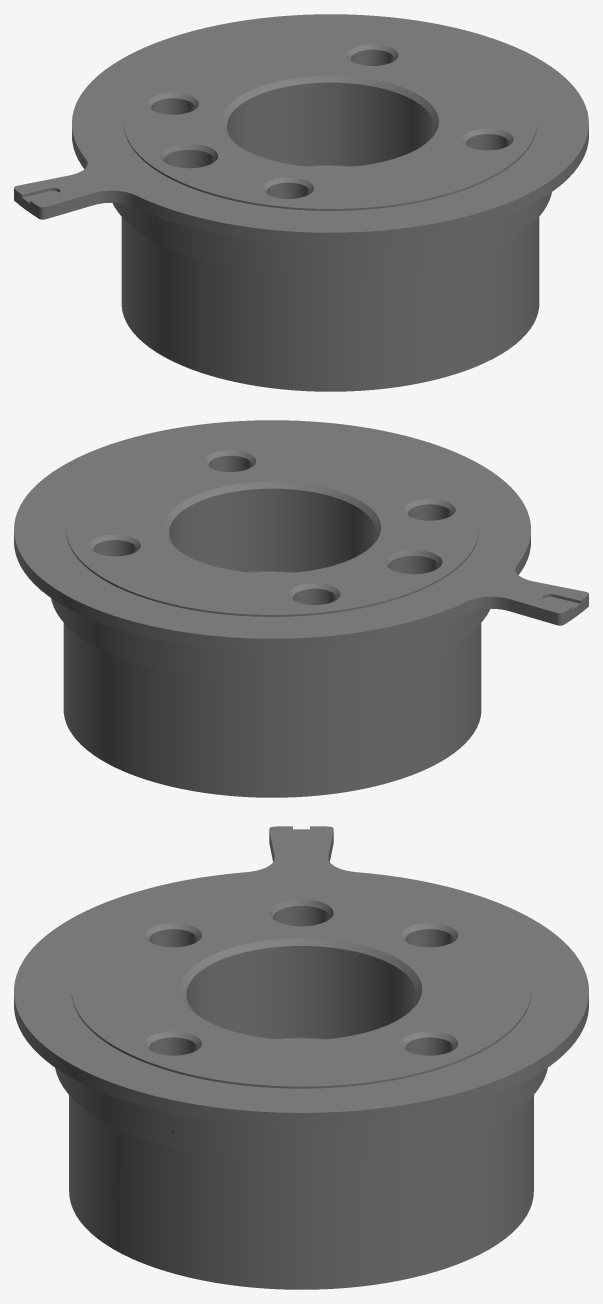
3 views of the same model, one above another, from view 1: azimuth 30°, elevation 25°; view 2: azimuth 150°, elevation 25°; view 3: azimuth 270°, elevation 25° (orthographic). The views are drawn at different scales.
Parts seen in each view (by area): view 1: link7; view 2: link7; view 3: link7.
Part boxes in pixels (x1=…): link7: x1=14, y1=14, x2=588, y2=391; link7: x1=14, y1=420, x2=588, y2=797; link7: x1=14, y1=826, x2=588, y2=1289.
Bounding box in the file's own units: 0.059 × 0.05 × 0.0194.
Materials: 1 (1 with a texture image).
